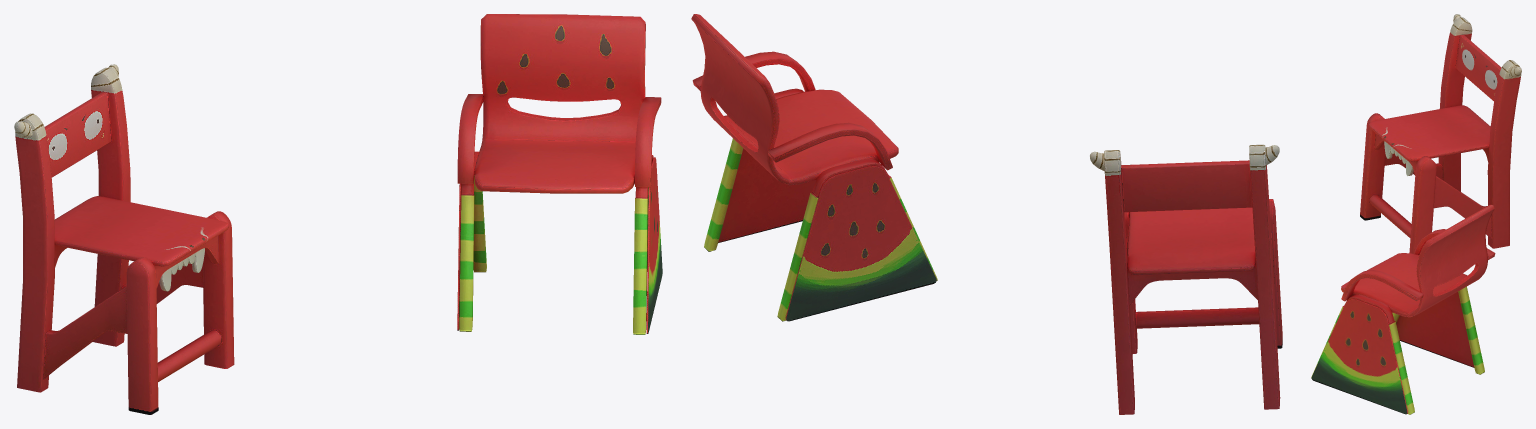
File: Chair2.glb
The picture shows the model from 3 angles, left to right: view 1: azimuth 30°, elevation 25°; view 2: azimuth 150°, elevation 25°; view 3: azimuth 270°, elevation 25°; orthographic projection. The views are drawn at different scales.
Visible parts, largest first — view 1: Chair_Export; view 2: Chair_Export; view 3: Chair_Export.
Boxes of the visible parts, x1=… form: Chair_Export: x1=14, y1=14, x2=662, y2=414; Chair_Export: x1=691, y1=14, x2=1282, y2=414; Chair_Export: x1=1311, y1=14, x2=1521, y2=414.
Bounding box in the file's own units: 2.44 × 1.05 × 1.03.
1 material, 1 textured.
